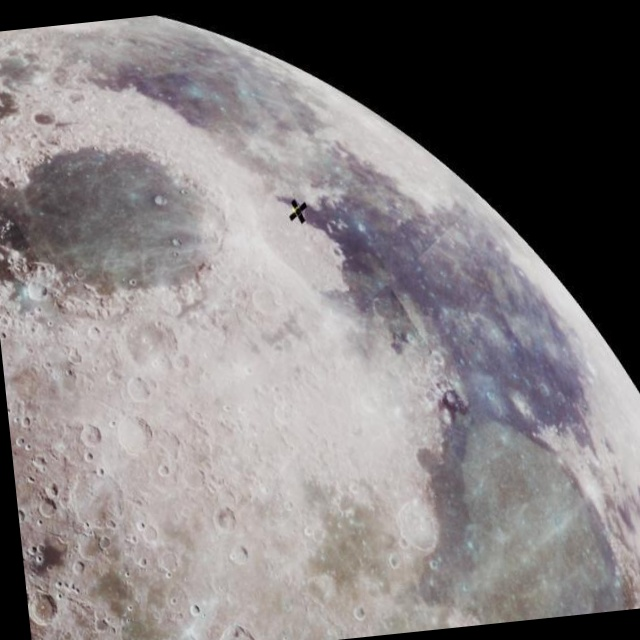satellite: (275, 194, 316, 235)
